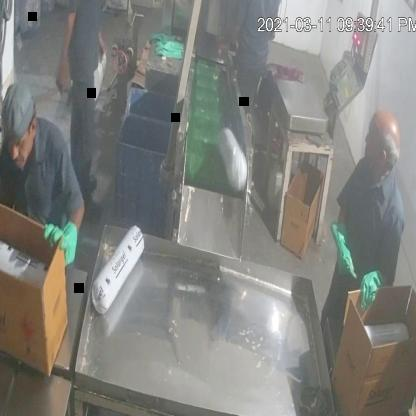glove: (326, 213, 358, 293), (41, 217, 82, 270), (358, 260, 388, 319)
no_glove: (55, 8, 81, 95)
